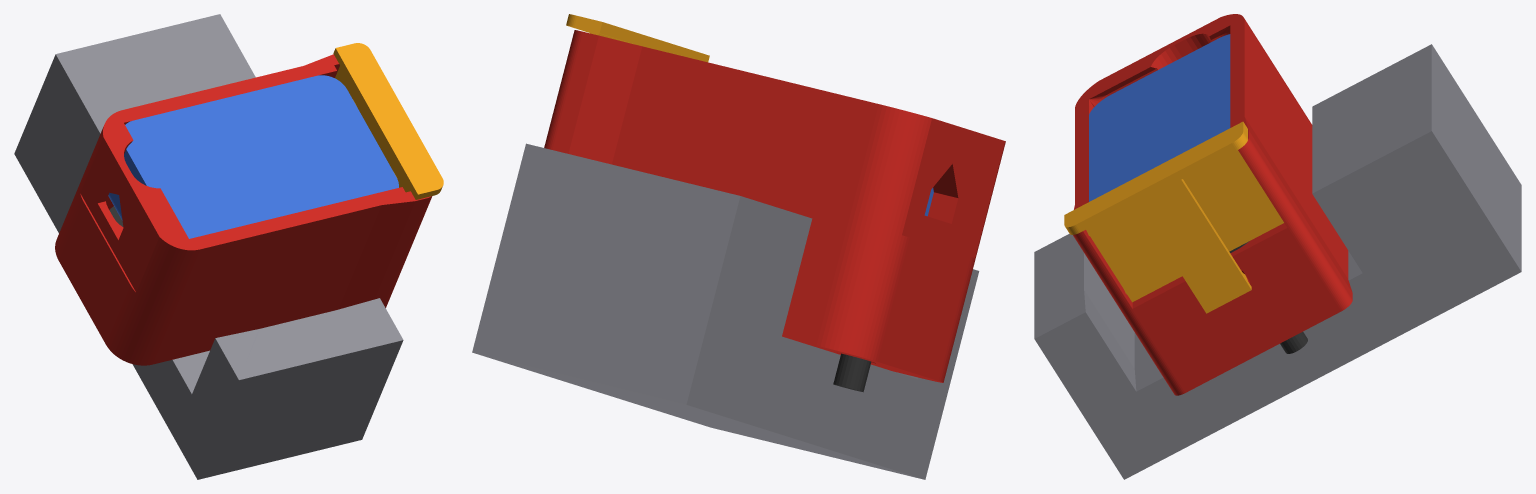
The model's file is dragy_assembly_v11.obj.
The picture shows the model from 3 angles, left to right: view 1: azimuth 30°, elevation 25°; view 2: azimuth 150°, elevation 25°; view 3: azimuth 270°, elevation 25°; orthographic projection. The views are drawn at different scales.
Visible parts, largest first — view 1: front_swingarm_pad_schematic, dragy_holder, dragy, gate; view 2: front_swingarm_pad_schematic, dragy_holder, gate, screws; view 3: front_swingarm_pad_schematic, dragy_holder, gate, dragy.
Part boxes in pixels (<box>): front_swingarm_pad_schematic: <box>14,14,403,479</box>; dragy_holder: <box>55,54,432,365</box>; dragy: <box>108,75,398,238</box>; gate: <box>333,43,443,199</box>; front_swingarm_pad_schematic: <box>472,143,979,479</box>; dragy_holder: <box>544,30,1005,382</box>; gate: <box>566,14,709,62</box>; screws: <box>833,353,871,392</box>; front_swingarm_pad_schematic: <box>1034,44,1521,479</box>; dragy_holder: <box>1073,14,1352,395</box>; gate: <box>1064,121,1283,313</box>; dragy: <box>1089,34,1230,201</box>.
Size of the model in its own units: 52.55 by 63.24 by 74.76.
